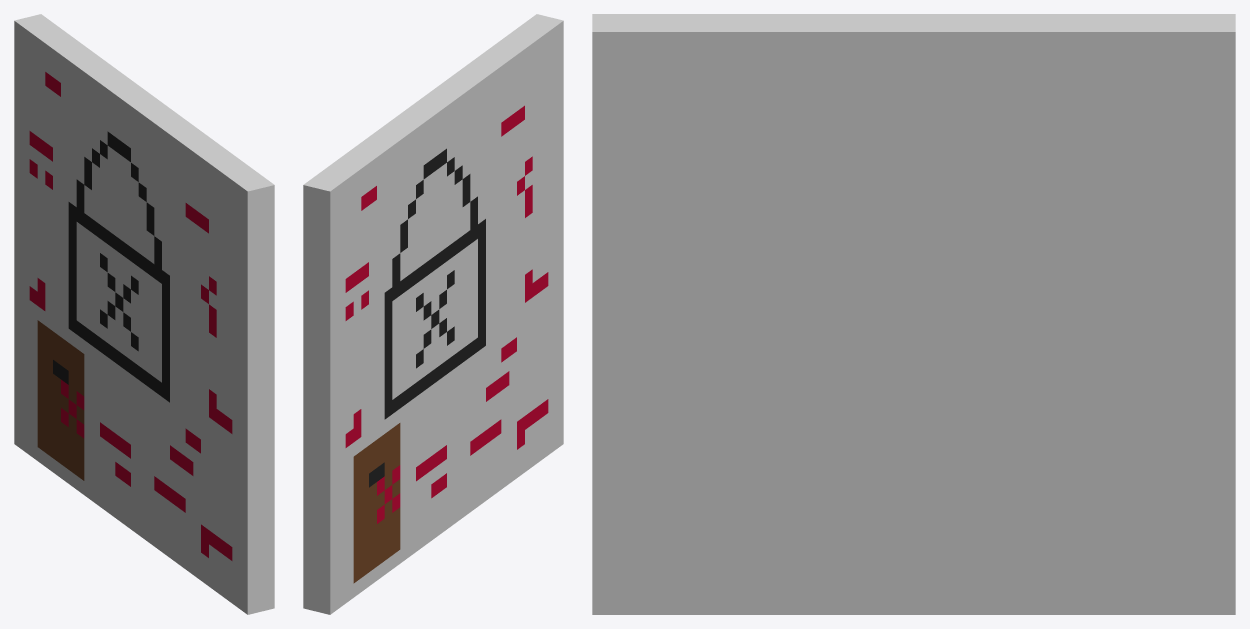
The model's file is SpellBook-7.obj.
3 renders of one model, left to right at view 1: azimuth 30°, elevation 25°; view 2: azimuth 150°, elevation 25°; view 3: azimuth 270°, elevation 25°, orthographic. The views are drawn at different scales.
Size of the model in its own units: 0.2 by 3 by 3.
1 material, 1 textured.
